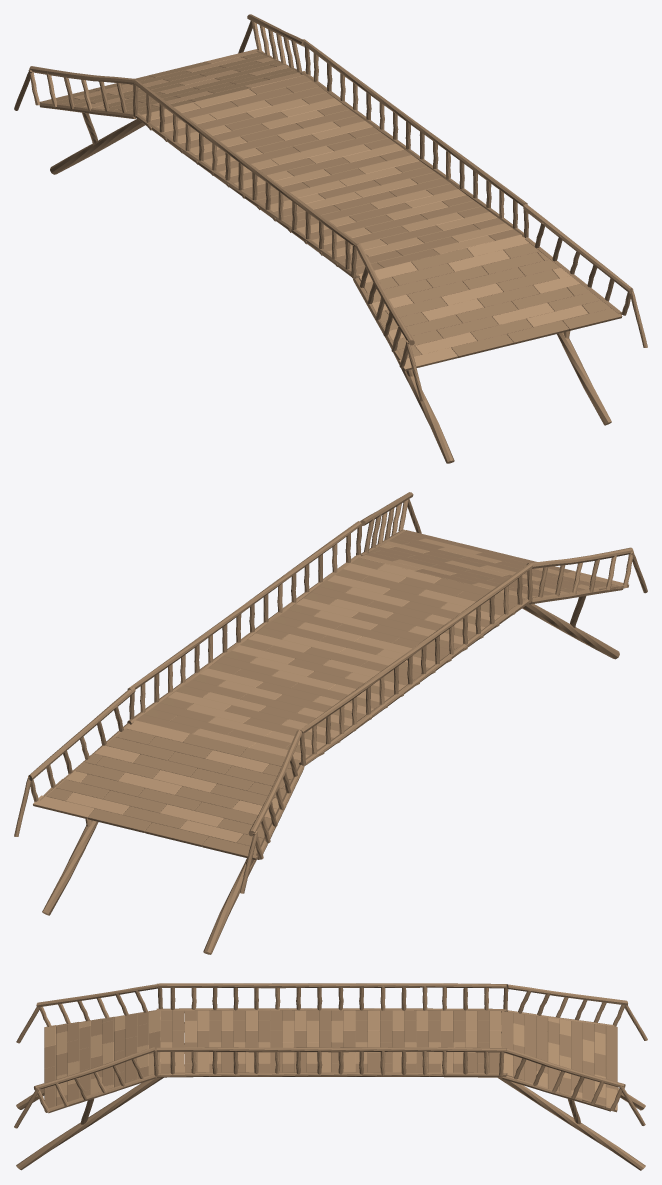
The model's file is obj_bridgeOnWater.fbx.
3 views of the same model, one above another, from view 1: azimuth 30°, elevation 25°; view 2: azimuth 150°, elevation 25°; view 3: azimuth 270°, elevation 25° (orthographic). The views are drawn at different scales.
Visible parts, largest first — view 1: env_obj_viewpoint.002; view 2: env_obj_viewpoint.002; view 3: env_obj_viewpoint.002.
Part boxes in pixels (bbox=[...]): env_obj_viewpoint.002: bbox=[14, 14, 647, 463]; env_obj_viewpoint.002: bbox=[14, 492, 647, 954]; env_obj_viewpoint.002: bbox=[14, 983, 647, 1170].
Bounding box in the file's own units: 10.11 × 6.61 × 30.53.
